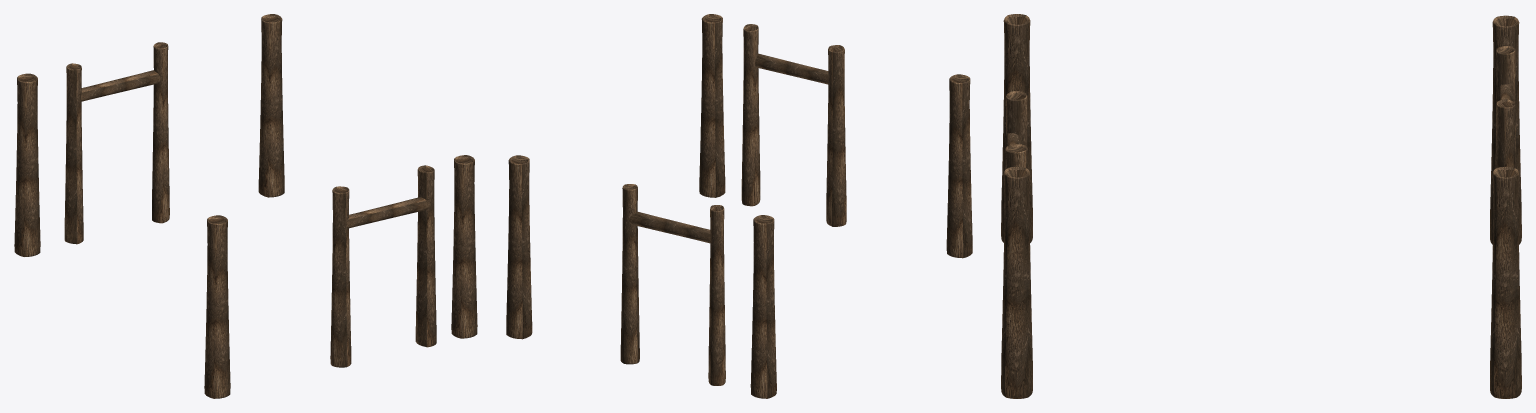
The model's file is pillars.fbx.
3 views of the same model, side by side, from view 1: azimuth 30°, elevation 25°; view 2: azimuth 150°, elevation 25°; view 3: azimuth 270°, elevation 25° (orthographic). The views are drawn at different scales.
Visible parts, largest first — view 1: pCube269; view 2: pCube269; view 3: pCube269.
Part boxes in pixels (left/top/right/bottom): pCube269: left=14, top=14, right=477, bottom=398; pCube269: left=506, top=14, right=972, bottom=398; pCube269: left=1001, top=14, right=1521, bottom=398.
Size of the model in its own units: 9.21 by 5.7 by 12.16.
Materials: 1 (1 with a texture image).
